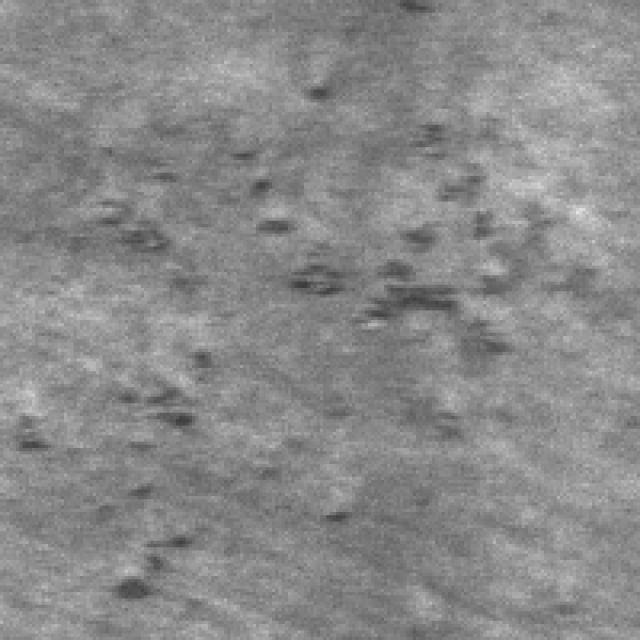rolled-in_scale: (256, 86, 614, 349), (29, 147, 214, 598)
